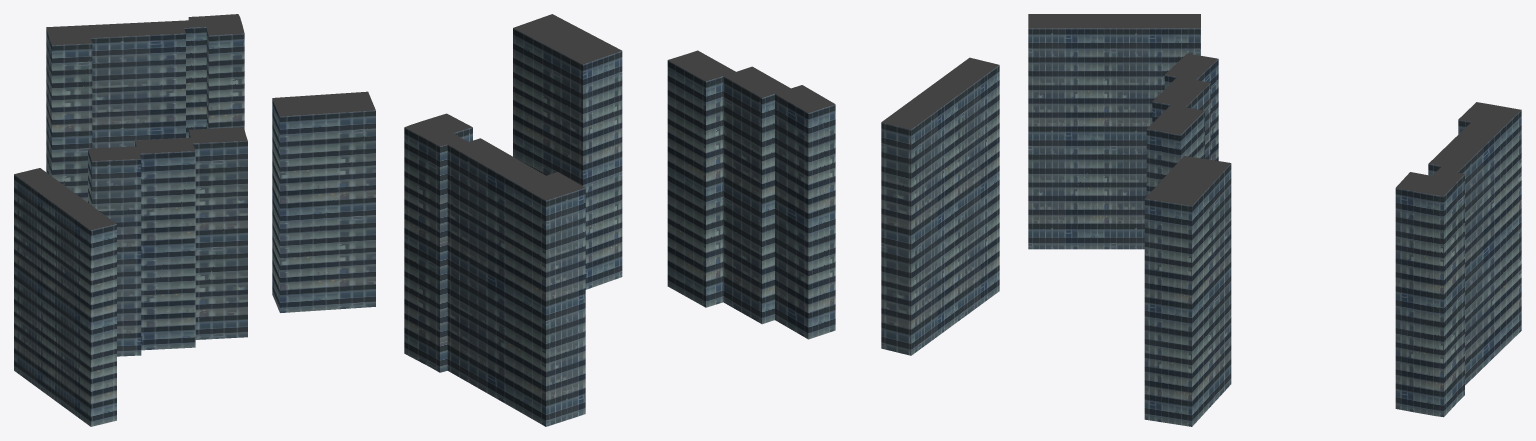
Rendered from builder_17.FBX.
3 renders of one model, left to right at view 1: azimuth 30°, elevation 25°; view 2: azimuth 150°, elevation 25°; view 3: azimuth 270°, elevation 25°, orthographic. The views are drawn at different scales.
Visible parts, largest first — view 1: builder_17; view 2: builder_17; view 3: builder_17.
Part boxes in pixels (x1,y1,x2,y2): builder_17: (14,14,375,426); builder_17: (404,14,999,426); builder_17: (1028,14,1521,426).
Size of the model in its own units: 132922 by 71300 by 144335.
